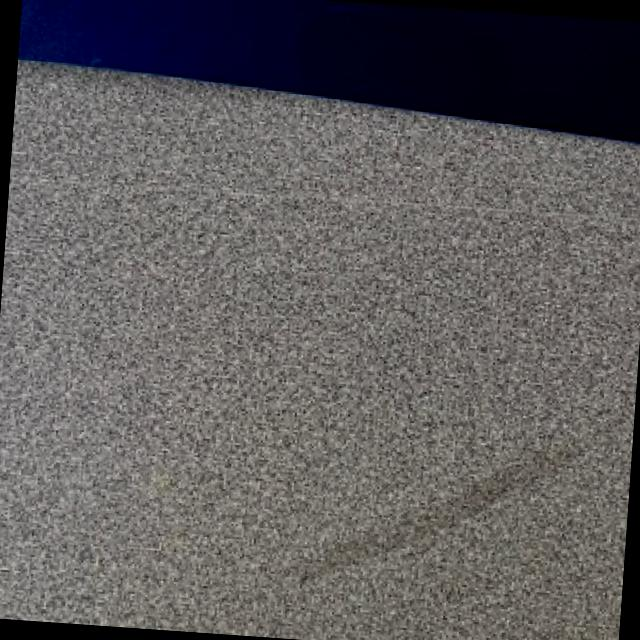healthy: (0, 0, 640, 640), (20, 0, 640, 136)
